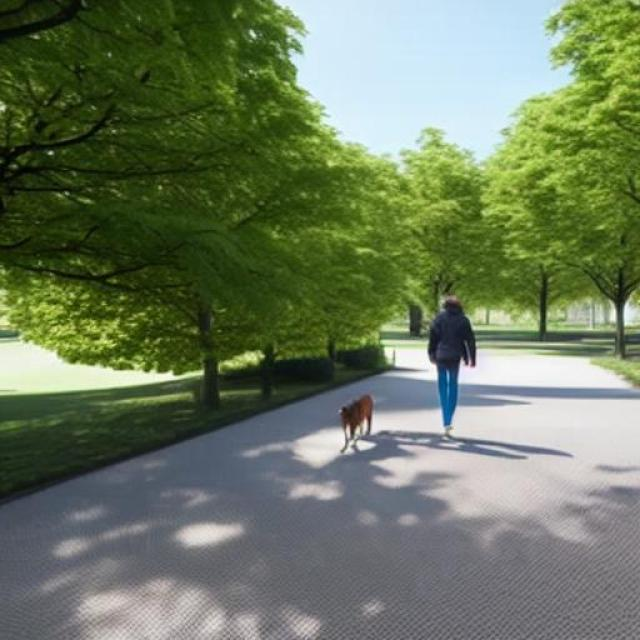Unleashed_Dog: (338, 355, 460, 453)
